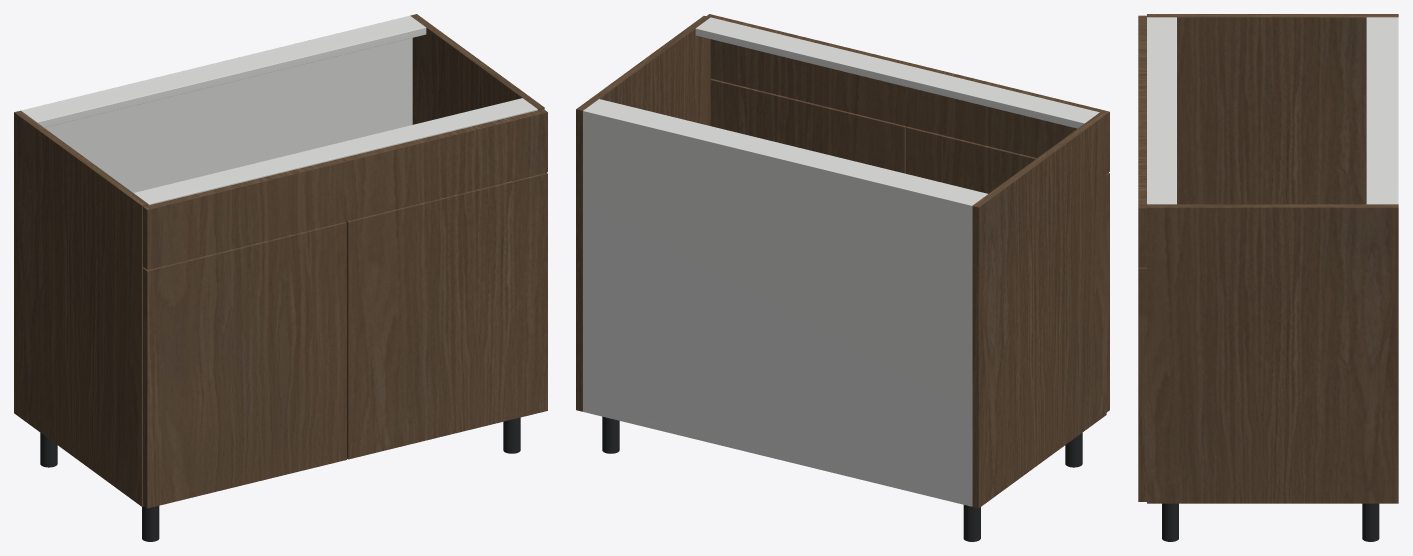
The model's file is oppein-pb-mso-sb42.glb.
3 renders of one model, left to right at view 1: azimuth 30°, elevation 25°; view 2: azimuth 150°, elevation 25°; view 3: azimuth 270°, elevation 25°, orthographic.
Visible parts, largest first — view 1: Door, Door.001, Cabinet side, Cabinet back, False drawer front, Top support rail, Cabinet side.001, Top support rail.001; view 2: Cabinet back, Cabinet side, False drawer front, Door.001, Cabinet side.001, Top support rail.001, Door, Top support rail, Cabinet bottom, Adjustable foot, Adjustable foot.002; view 3: Cabinet side.001, Cabinet side, Top support rail.001, Top support rail, False drawer front, Door.001, Cabinet back, Adjustable foot.002, Adjustable foot.003.
Part boxes in pixels (<box>): Door: <box>143,221,346,508</box>; Door.001: <box>346,172,547,459</box>; Cabinet side: <box>14,110,148,506</box>; Cabinet back: <box>21,15,412,192</box>; False drawer front: <box>143,109,547,269</box>; Top support rail: <box>23,17,426,127</box>; Cabinet side.001: <box>410,14,544,124</box>; Top support rail.001: <box>134,98,537,205</box>; Cabinet back: <box>583,109,973,506</box>; Cabinet side: <box>972,112,1106,508</box>; False drawer front: <box>706,14,1109,173</box>; Door.001: <box>710,78,906,173</box>; Cabinet side.001: <box>576,16,710,411</box>; Top support rail.001: <box>695,17,1099,128</box>; Door: <box>906,126,1109,412</box>; Top support rail: <box>586,99,987,204</box>; Cabinet bottom: <box>583,405,971,505</box>; Adjustable foot: <box>963,505,980,541</box>; Adjustable foot.002: <box>602,416,619,453</box>; Cabinet side.001: <box>1147,204,1398,503</box>; Cabinet side: <box>1147,14,1398,204</box>; Top support rail.001: <box>1147,17,1176,204</box>; Top support rail: <box>1366,17,1393,204</box>; False drawer front: <box>1138,15,1146,267</box>; Door.001: <box>1138,267,1146,501</box>; Cabinet back: <box>1393,17,1398,204</box>; Adjustable foot.002: <box>1362,503,1379,541</box>; Adjustable foot.003: <box>1162,503,1178,541</box>.
Bounding box in the file's own units: 1.07 × 0.8763 × 0.6064.
Materials: 3 (1 with a texture image).
